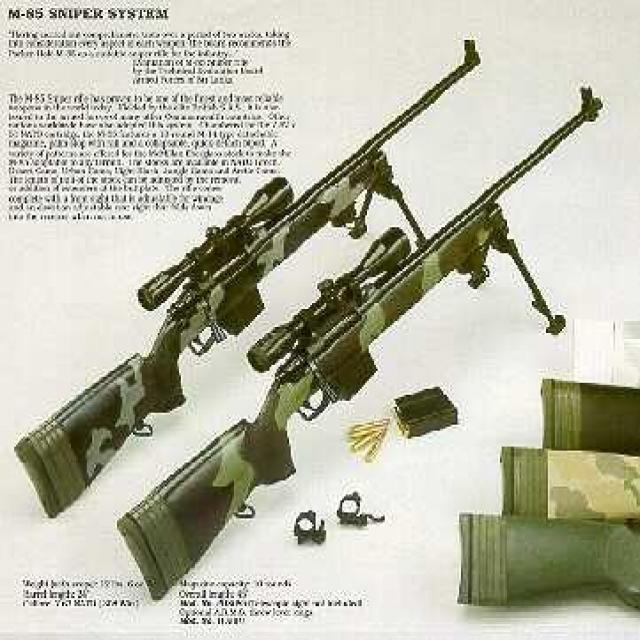weapon: (137, 78, 616, 596), (0, 9, 479, 524)
